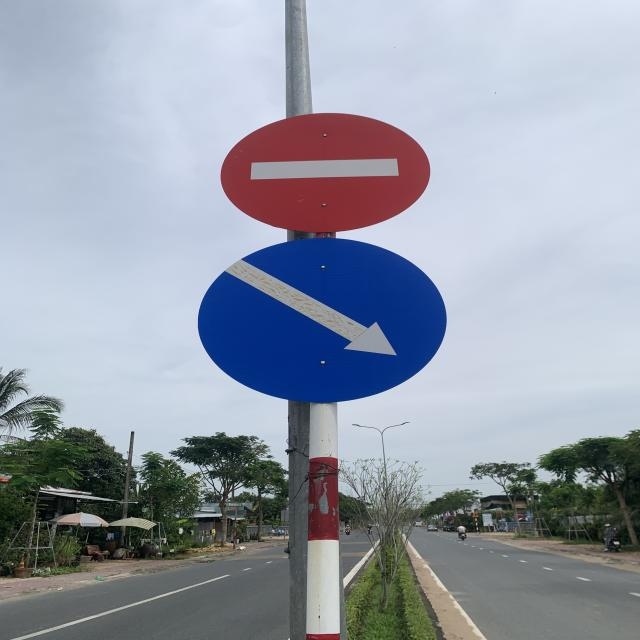Cam_Di_Nguoc_Chieu: (222, 110, 433, 234)
Chi_Huong_Di_Phai: (195, 236, 447, 404)
